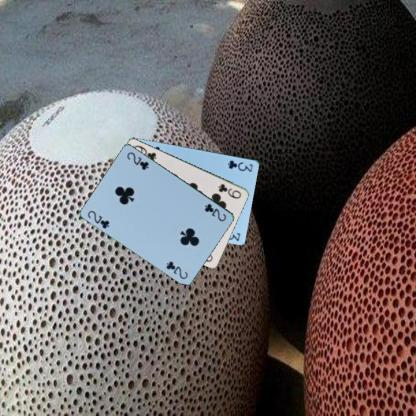2c: (202, 201, 228, 223), (85, 208, 111, 230)
3c: (225, 157, 254, 173)
9c: (216, 181, 243, 200)
